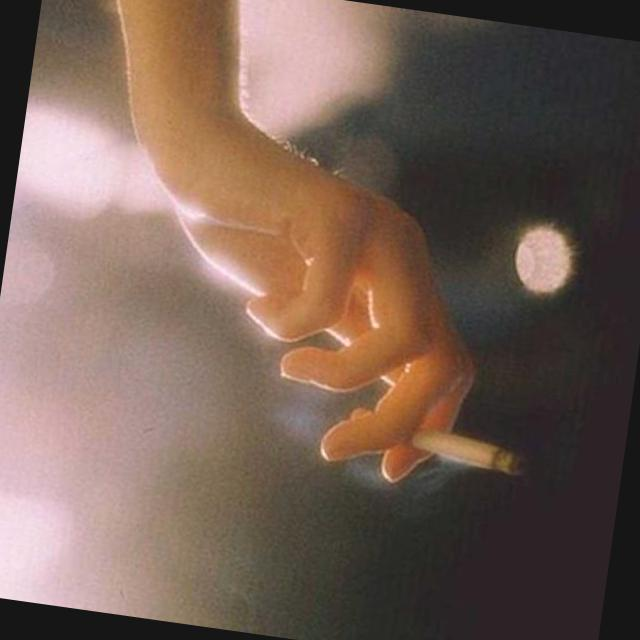cigarette: (412, 428, 532, 485)
